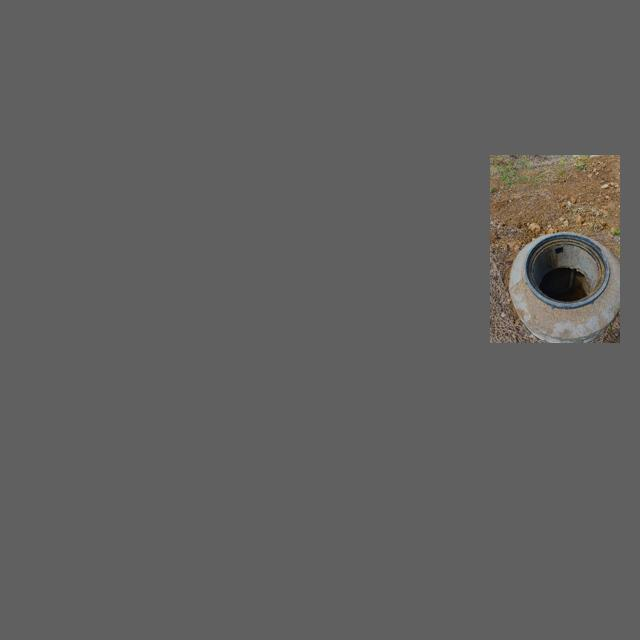lose: (525, 232, 610, 309)
